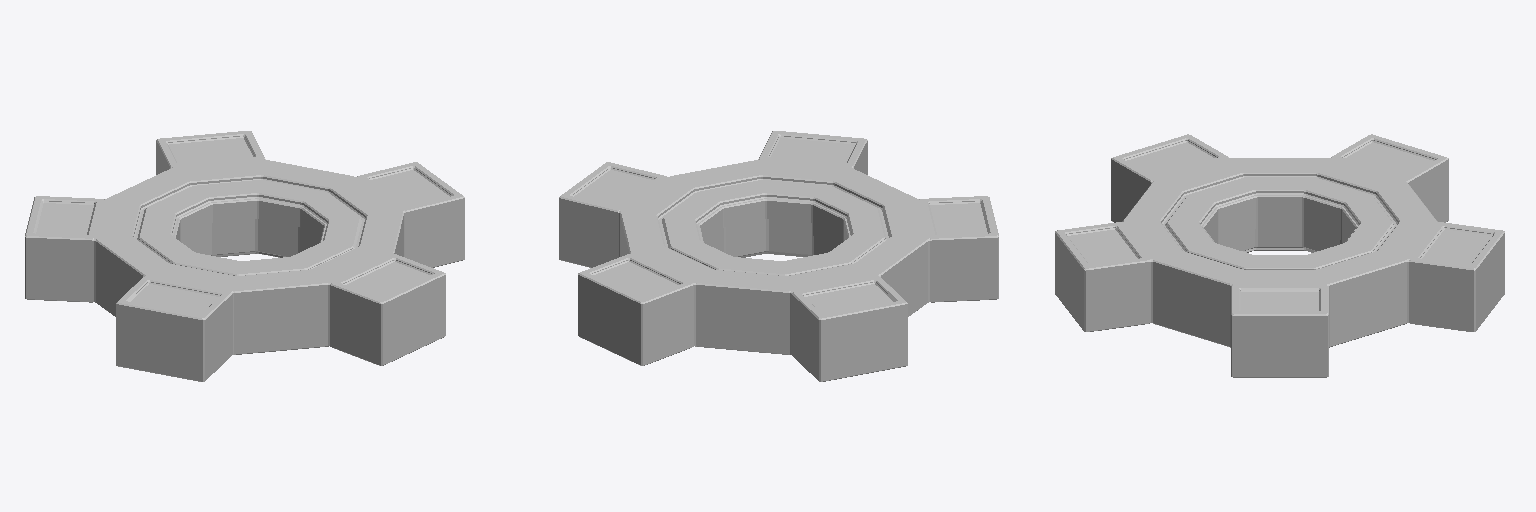
The model's file is gear1.obj.
The picture shows the model from 3 angles: view 1: azimuth 30°, elevation 25°; view 2: azimuth 150°, elevation 25°; view 3: azimuth 270°, elevation 25°; orthographic projection.
Visible parts, largest first — view 1: Default1; view 2: Default1; view 3: Default1.
Boxes of the visible parts, <box> form: Default1: <box>25,131,464,381</box>; Default1: <box>559,131,998,381</box>; Default1: <box>1055,134,1504,377</box>.
Size of the model in its own units: 2.71 by 0.4454 by 2.85.